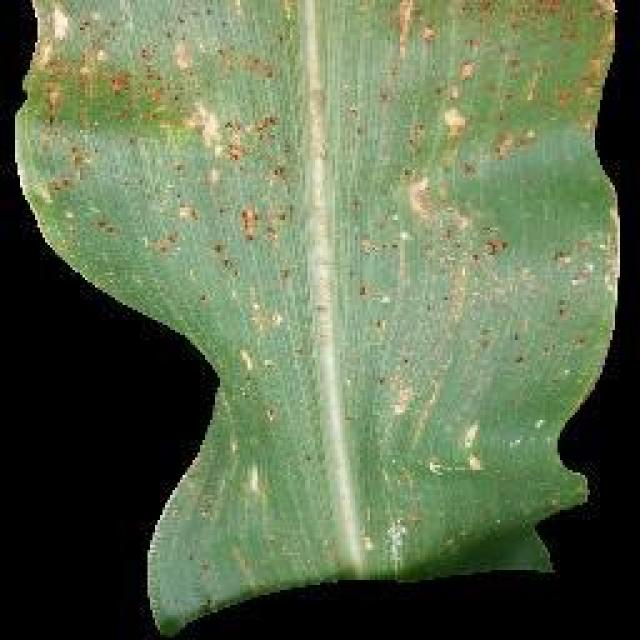Corn Common Rust: (124, 39, 508, 488)
